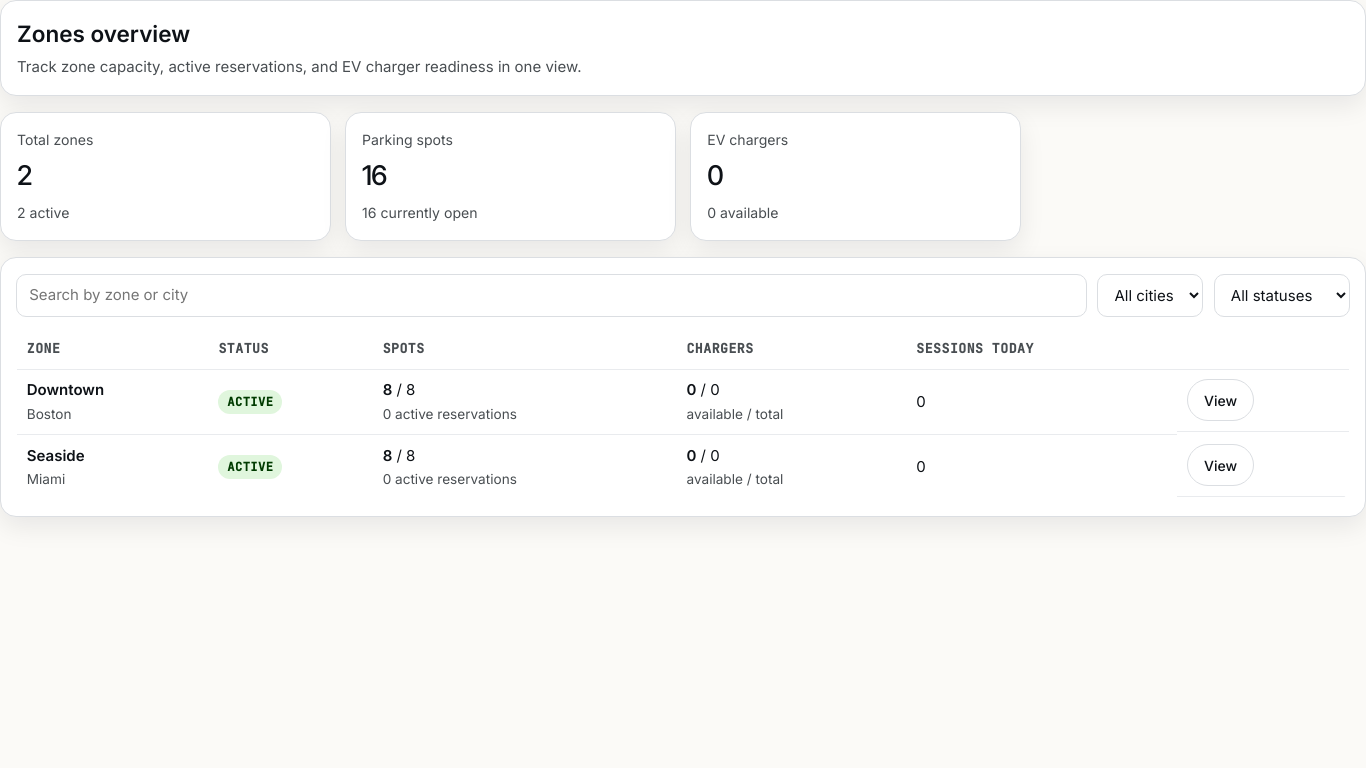
Test: ZonesPage › filters zones by search text
The image size is (1366, 768).
Expected: the text "Downtown" is shown, [27, 380, 104, 399]
Step 1. Type "sea" into the field with placeholder "Search by zone or city" → (552, 295), box [16, 274, 1087, 317]
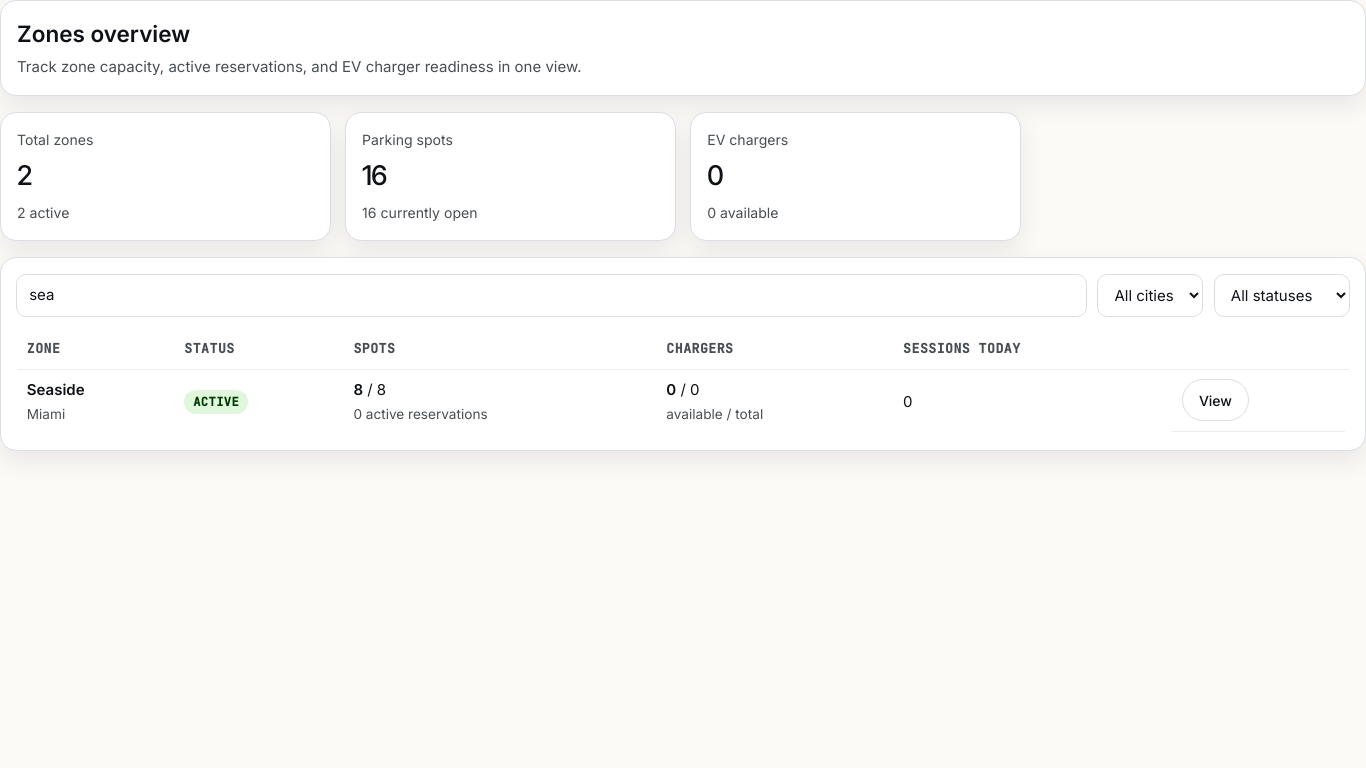
Expected: the text "Seaside" is shown, [27, 380, 85, 399]
Expected: the text "Downtown" is gone
